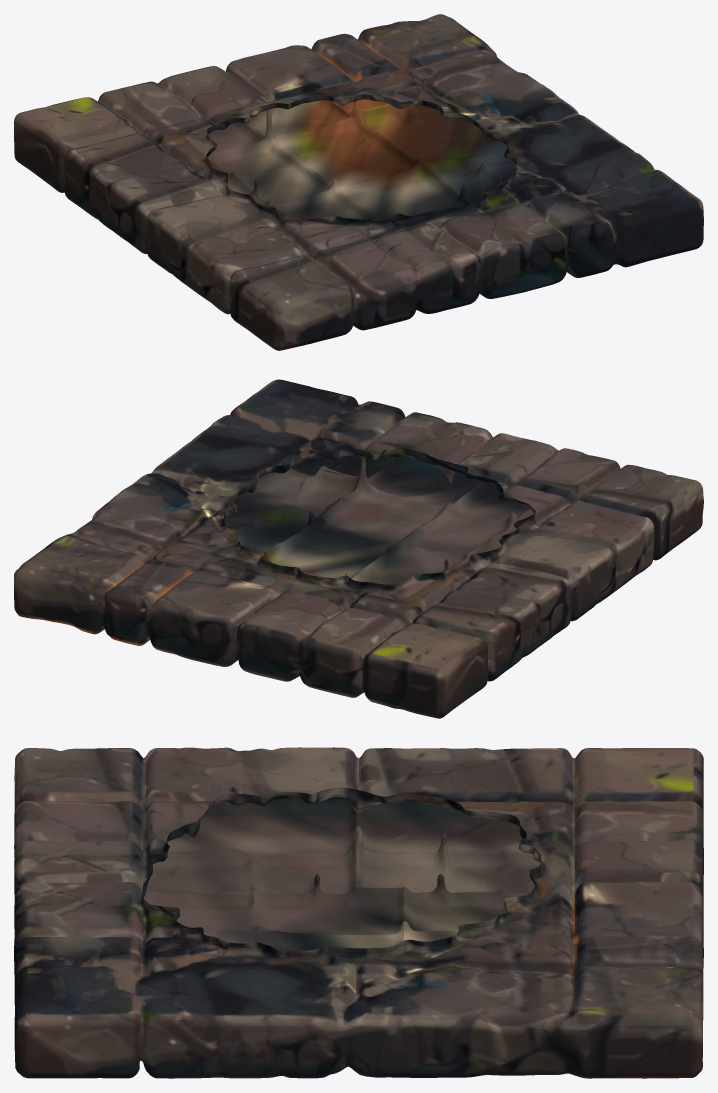
The model's file is idol_empty_plate.glb.
3 renders of one model, top to bottom at view 1: azimuth 30°, elevation 25°; view 2: azimuth 150°, elevation 25°; view 3: azimuth 270°, elevation 25°, orthographic. The views are drawn at different scales.
Parts seen in each view (by area): view 1: idol_empty_plate; view 2: idol_empty_plate; view 3: idol_empty_plate.
Part boxes in pixels (x1=…): idol_empty_plate: x1=14, y1=14, x2=703, y2=350; idol_empty_plate: x1=14, y1=379, x2=703, y2=718; idol_empty_plate: x1=14, y1=747, x2=703, y2=1078.
Size of the model in its own units: 1.88 by 0.2392 by 2.
1 material, 1 textured.
